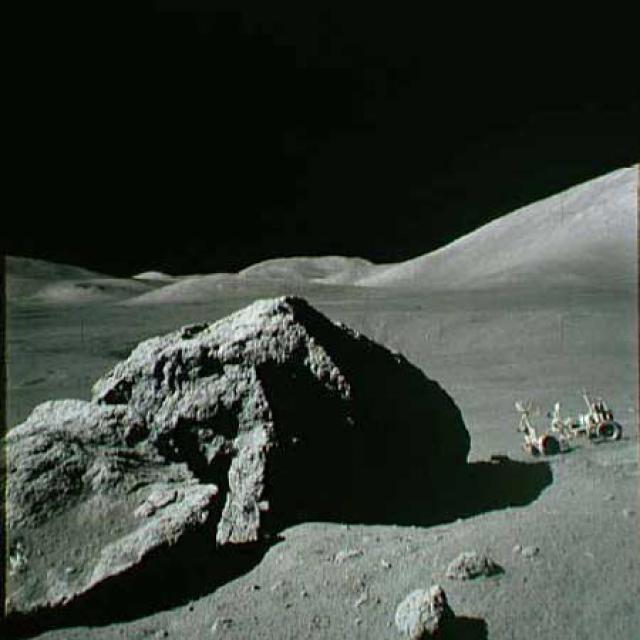artifact: (506, 374, 629, 459)
crater: (100, 299, 616, 351)
rock: (86, 297, 470, 547), (4, 395, 218, 615), (392, 579, 459, 637), (435, 546, 505, 584)
